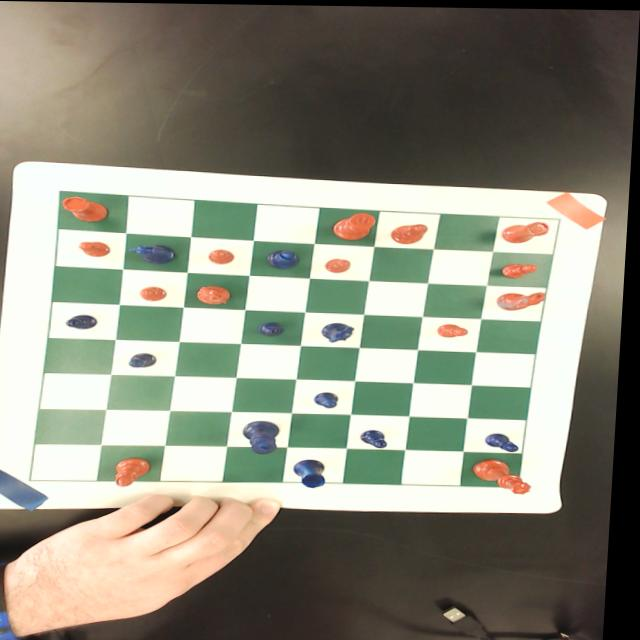B: (268, 248, 304, 268)
K: (246, 419, 287, 453)
N: (129, 242, 180, 263), (326, 321, 359, 341)
P: (490, 430, 526, 450), (364, 427, 395, 446), (130, 350, 163, 367), (317, 389, 346, 408), (70, 312, 102, 329), (264, 320, 289, 336)
R: (296, 457, 332, 487)
b: (117, 455, 159, 488), (393, 222, 432, 242)
k: (334, 211, 379, 239)
n: (499, 288, 554, 310), (197, 283, 236, 304)
p: (503, 260, 544, 276), (80, 239, 115, 257), (441, 321, 473, 335), (209, 248, 238, 263), (328, 255, 355, 271), (143, 285, 170, 300)
q: (475, 456, 540, 492)
r: (63, 194, 114, 222), (503, 218, 553, 244)
